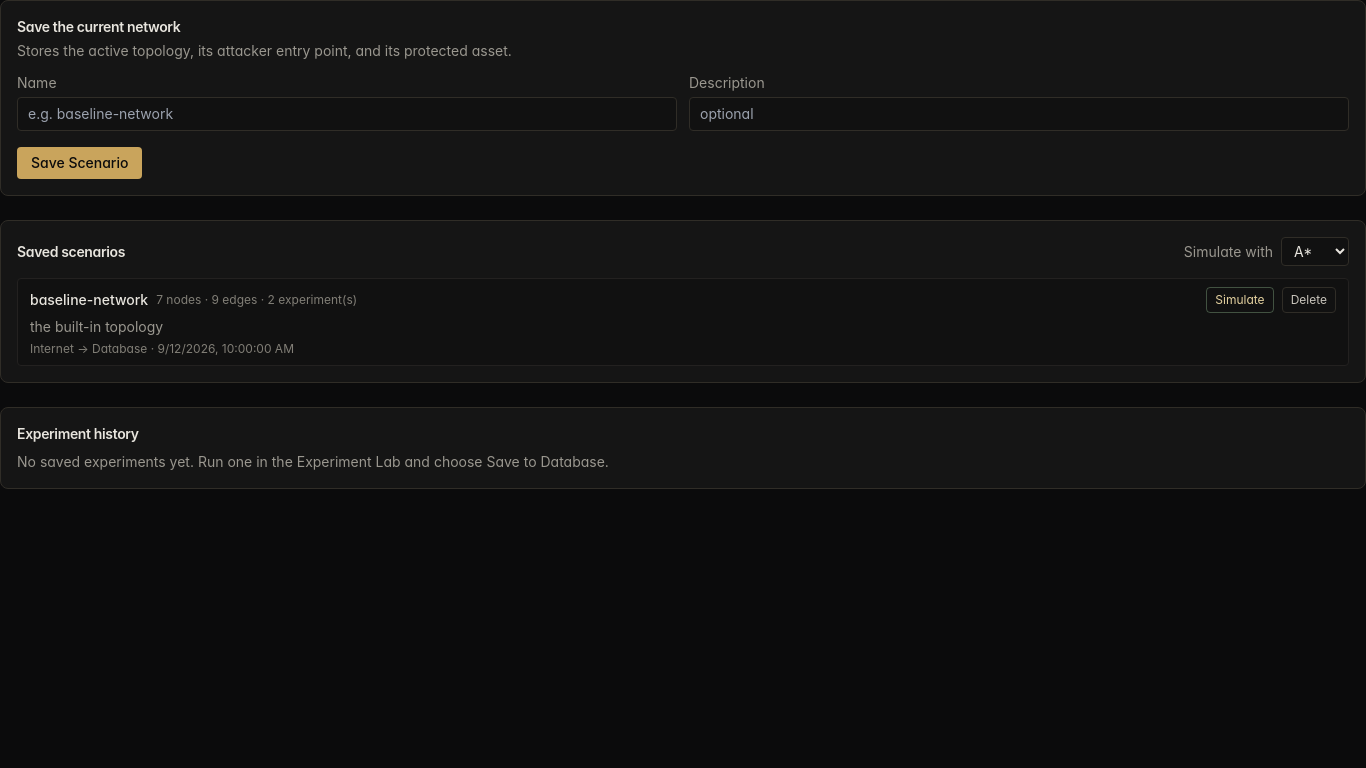
Test: ScenariosPage › shows a simulation failure for a saved scenario
The image size is (1366, 768).
Check: the text "baseline-network" is shown, box [30,290,148,310]
Click the button with aria-label "Simulate baseline-network" at point(1240, 300), box [1206,287,1274,313]
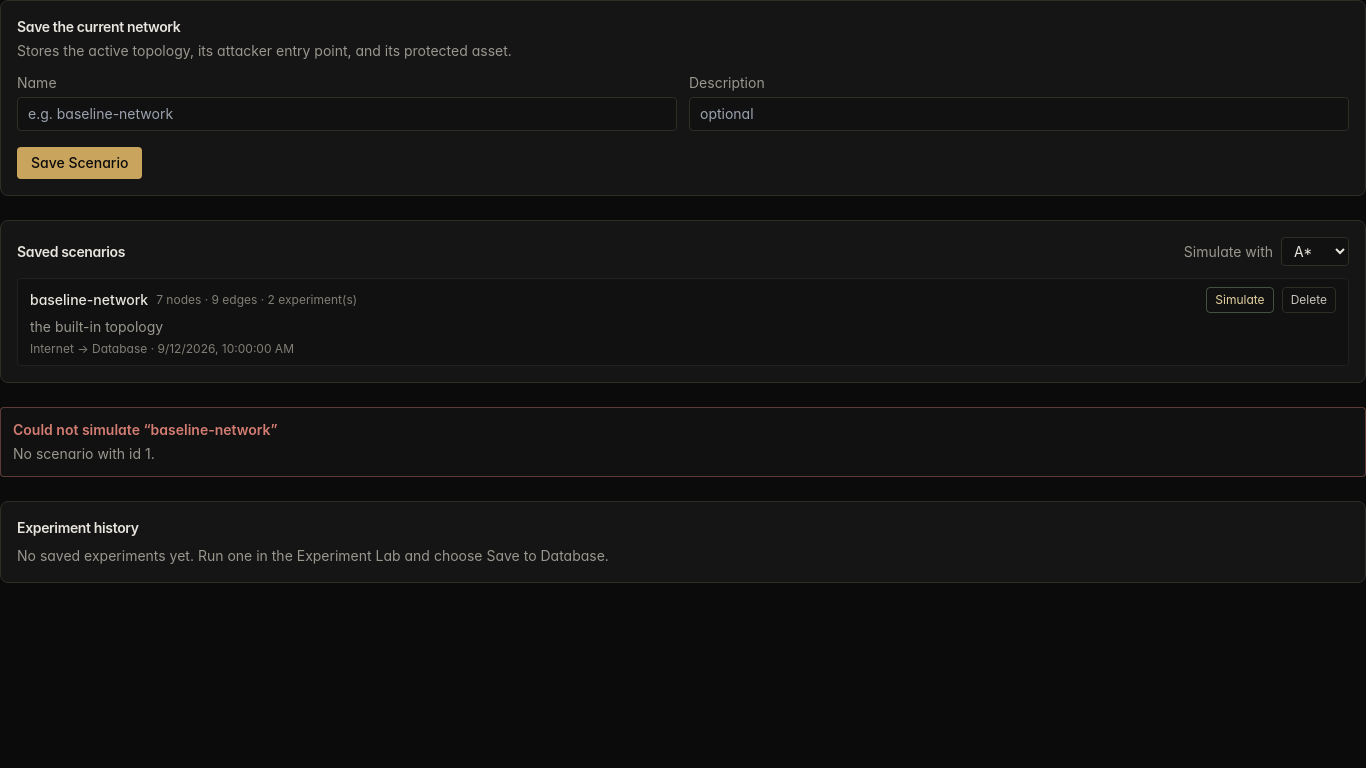
Check: the text "Could not simulate “baseline-network”" is shown, box [13,421,278,438]
Check: the text "No scenario with id 1." is shown, box [13,445,155,462]
